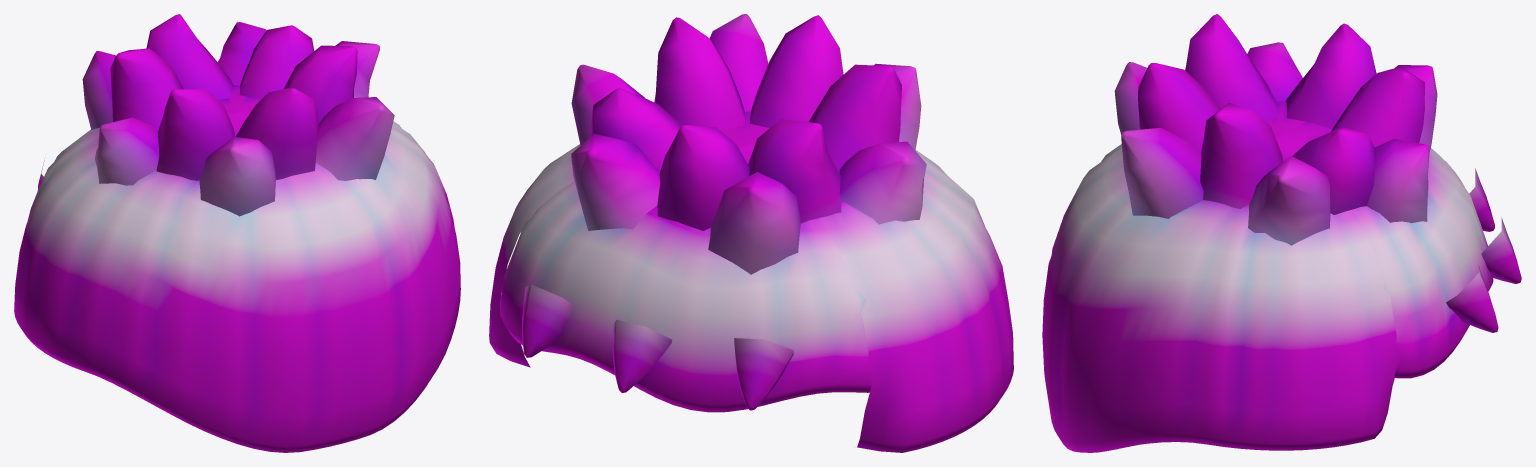
File: spiky_mid.glb
3 renders of one model, left to right at view 1: azimuth 30°, elevation 25°; view 2: azimuth 150°, elevation 25°; view 3: azimuth 270°, elevation 25°, orthographic. The views are drawn at different scales.
Parts seen in each view (by area): view 1: spiky; view 2: spiky; view 3: spiky.
Part boxes in pixels (bbox=[...]): spiky: bbox=[14, 14, 460, 452]; spiky: bbox=[489, 14, 1013, 452]; spiky: bbox=[1042, 14, 1521, 452].
Size of the model in its own units: 0.9271 by 0.7237 by 0.8718.
